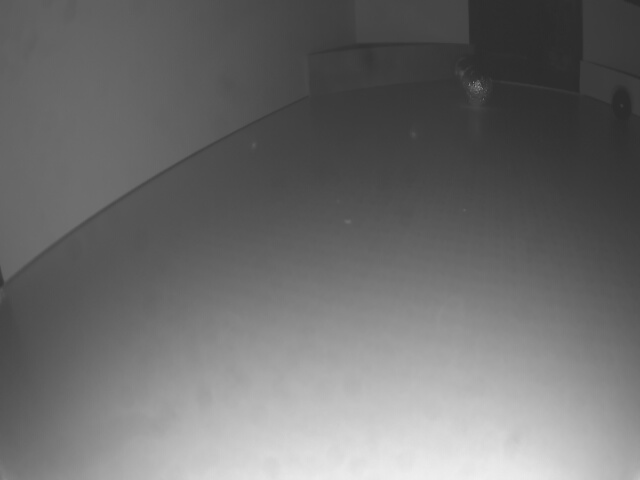Dead: (610, 91, 632, 119)
Green: (308, 46, 475, 97)
Live: (462, 66, 494, 108), (453, 54, 476, 87)
Red: (576, 60, 640, 114)
